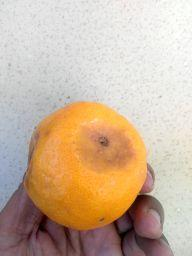Unripe: (27, 100, 147, 229)
